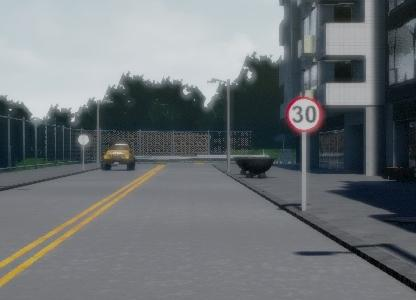Speed_30: (285, 96, 323, 134)
